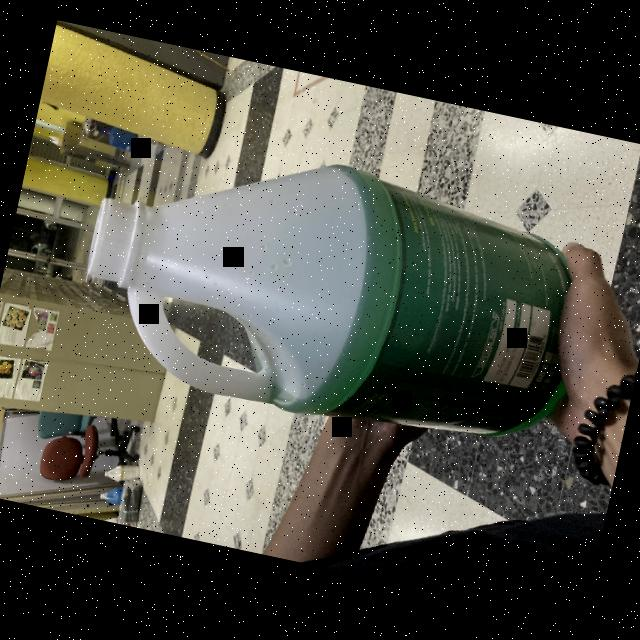chemical_plastic_gallon: (60, 116, 604, 470)
